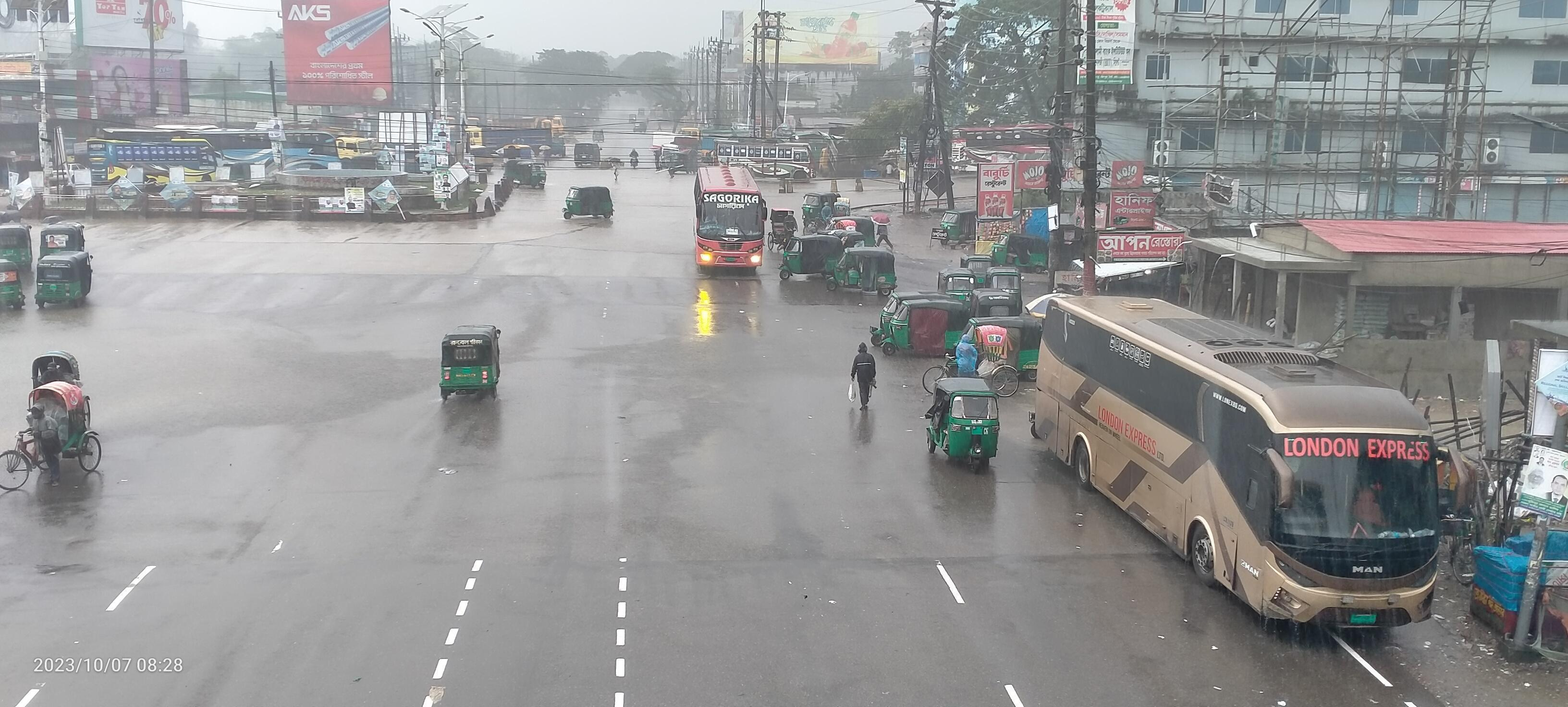Bus: (1019, 266, 1471, 658), (675, 138, 792, 312), (932, 90, 1102, 191), (99, 119, 290, 186), (71, 133, 229, 207), (252, 106, 352, 203), (705, 132, 830, 191)
Car: (0, 336, 124, 516), (910, 320, 1040, 412), (766, 198, 802, 257)
Truck: (453, 107, 562, 165), (323, 117, 392, 189)
